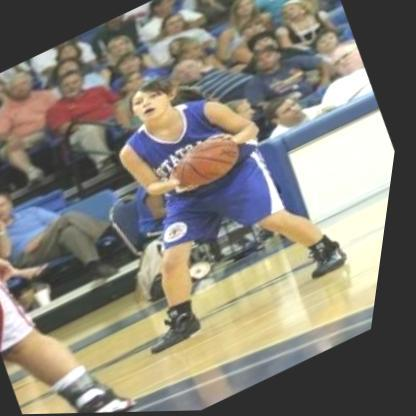basketball: (167, 128, 256, 200)
